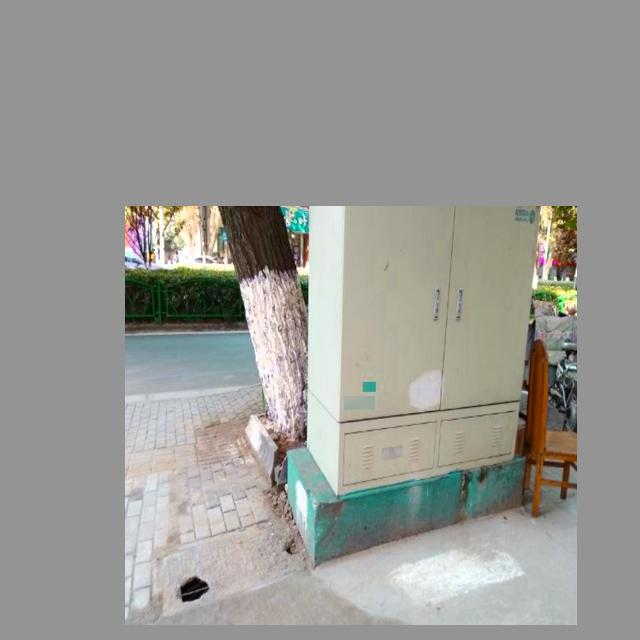broke: (157, 511, 302, 617)
